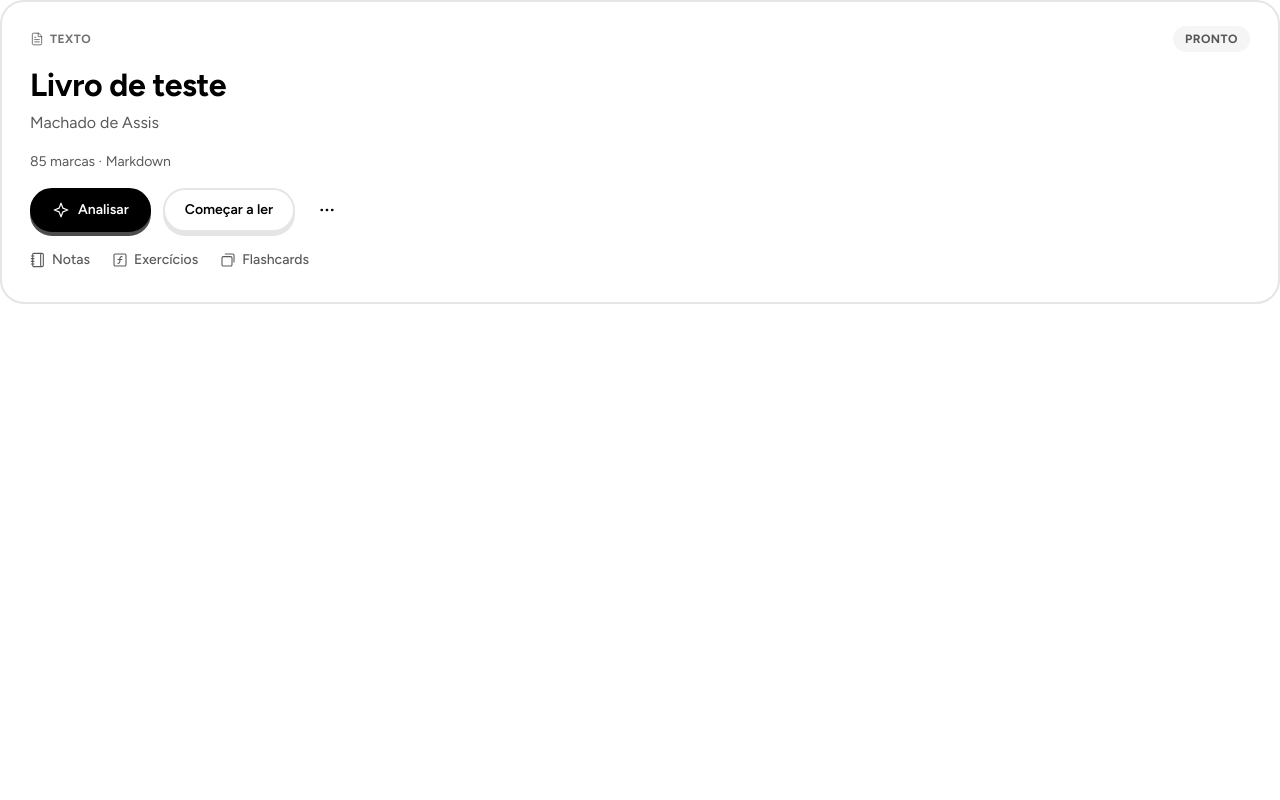
detalhe do documento › J107: "Marcas por função" mostra as funções do modo econômico, não só o total
expect the text "85 marcas · Markdown" is shown: met, box 30,151 -> 171,172
Click the button named "Opções do documento": (327, 210) 307,190 -> 347,230
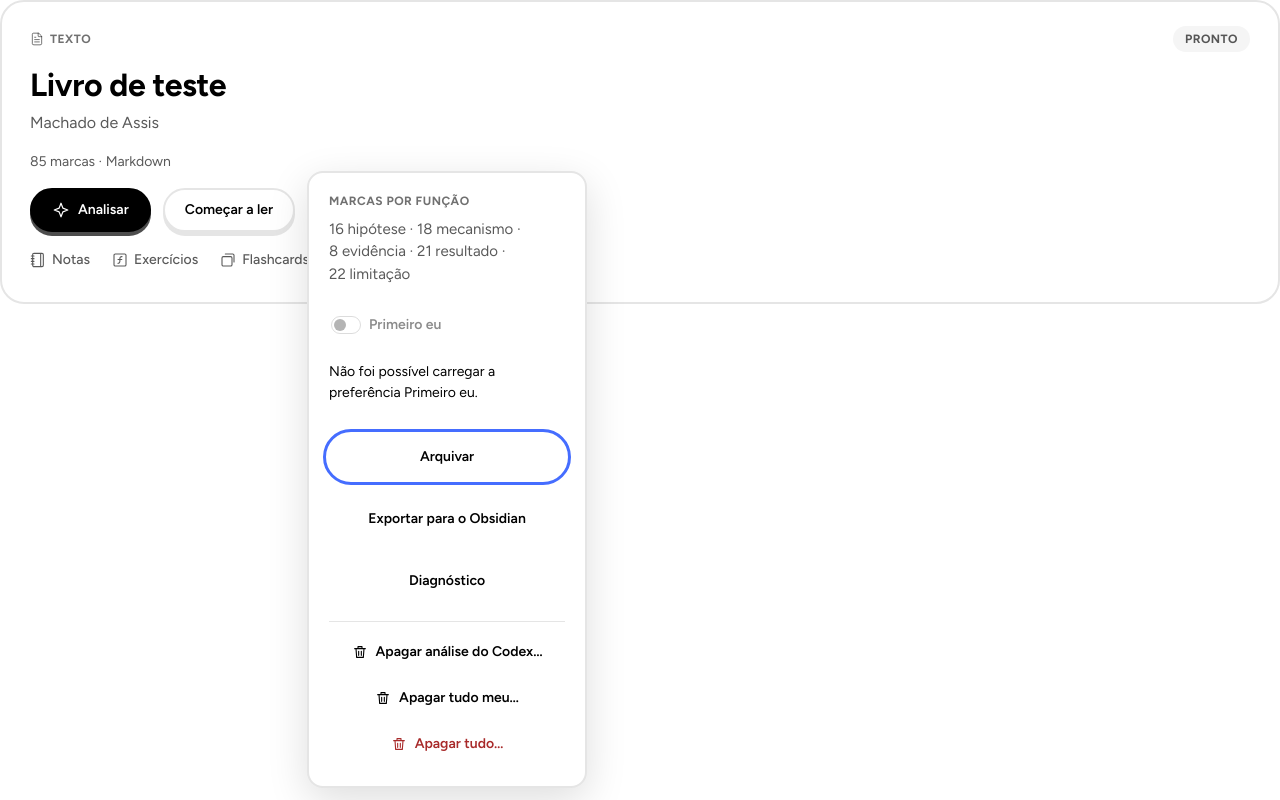
expect the text "16 hipótese · 18 mecanismo · 8 evidência · 21 resultado · 22 limitação" is shown: met, box 329,220 -> 521,282
